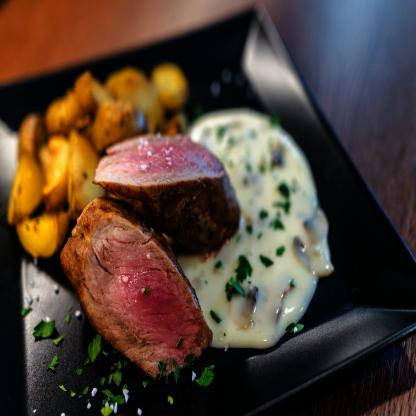Carne: (56, 194, 206, 374), (97, 137, 241, 253)
